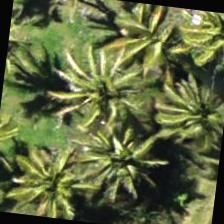Kelapa_Sawit: (63, 37, 163, 137), (71, 119, 171, 218), (5, 136, 104, 223), (102, 0, 201, 85), (155, 78, 223, 176)
